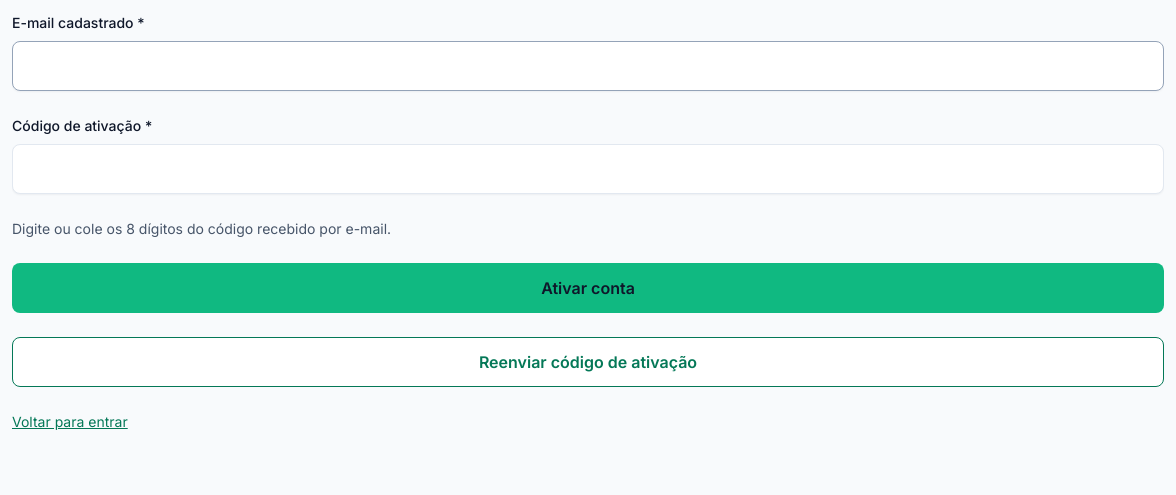
account activation form › shows invalid/expired OTP errors without navigating
This screenshot has width=1176, height=495.
Type "test@example.com" into the field labelled "E-mail cadastrado *" at (588, 66), box x1=12 y1=41 x2=1164 y2=91
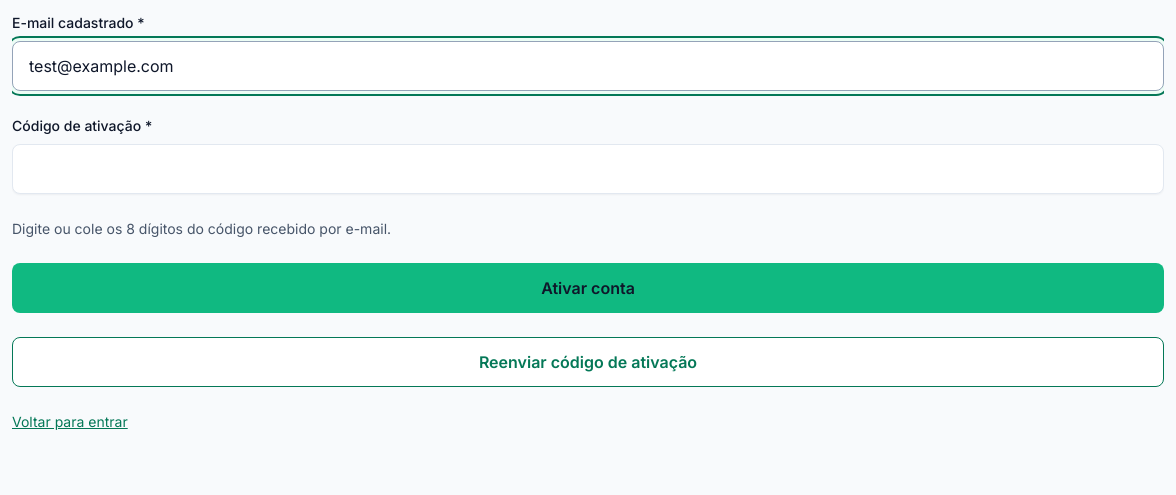
Type "00001234" into the field labelled "Código de ativação *" at (588, 169), box x1=12 y1=144 x2=1164 y2=194
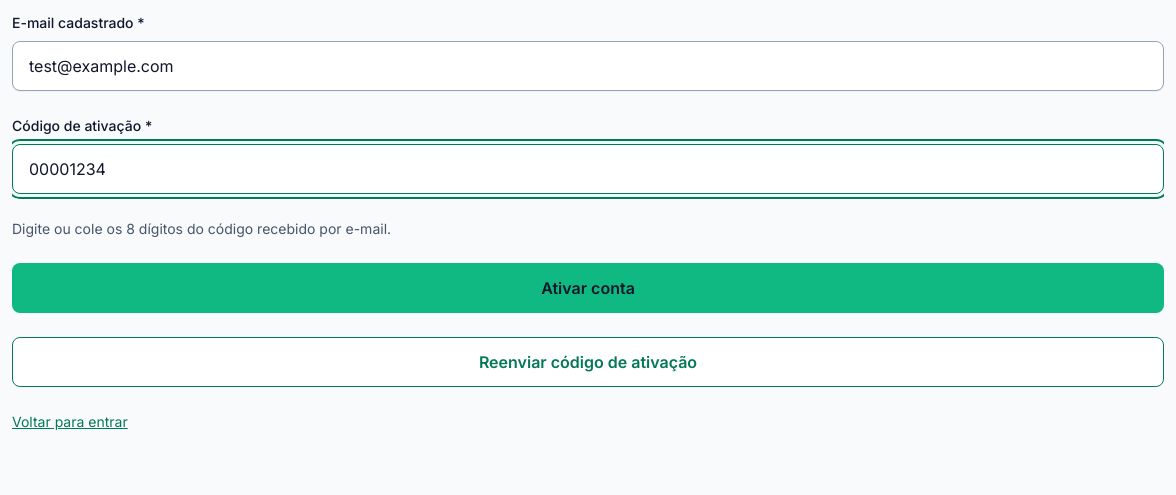
Click the button "Ativar conta" at (588, 288), box x1=12 y1=263 x2=1164 y2=313
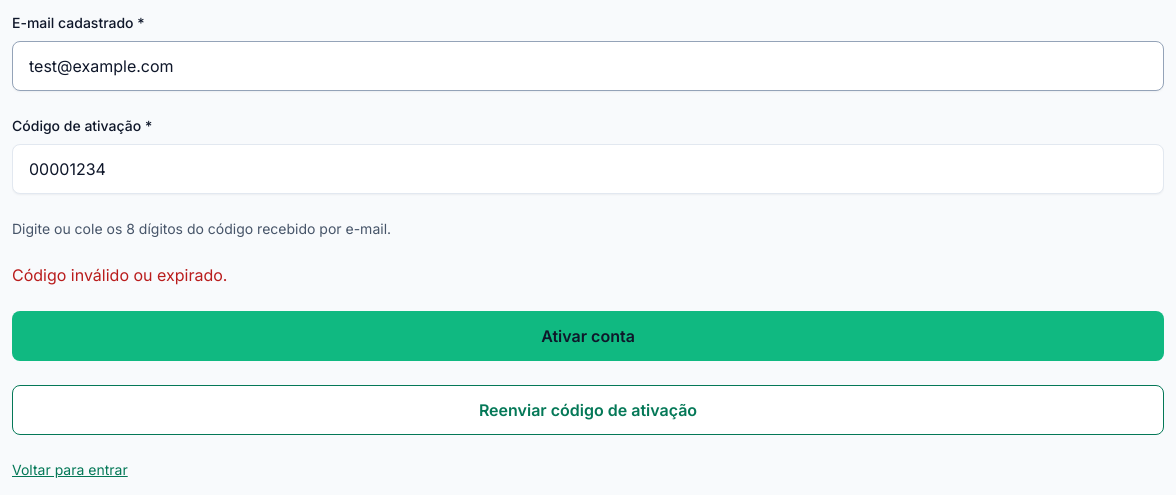
Result: the message reads "Código inválido ou expirado." at x1=12 y1=265 x2=227 y2=285
